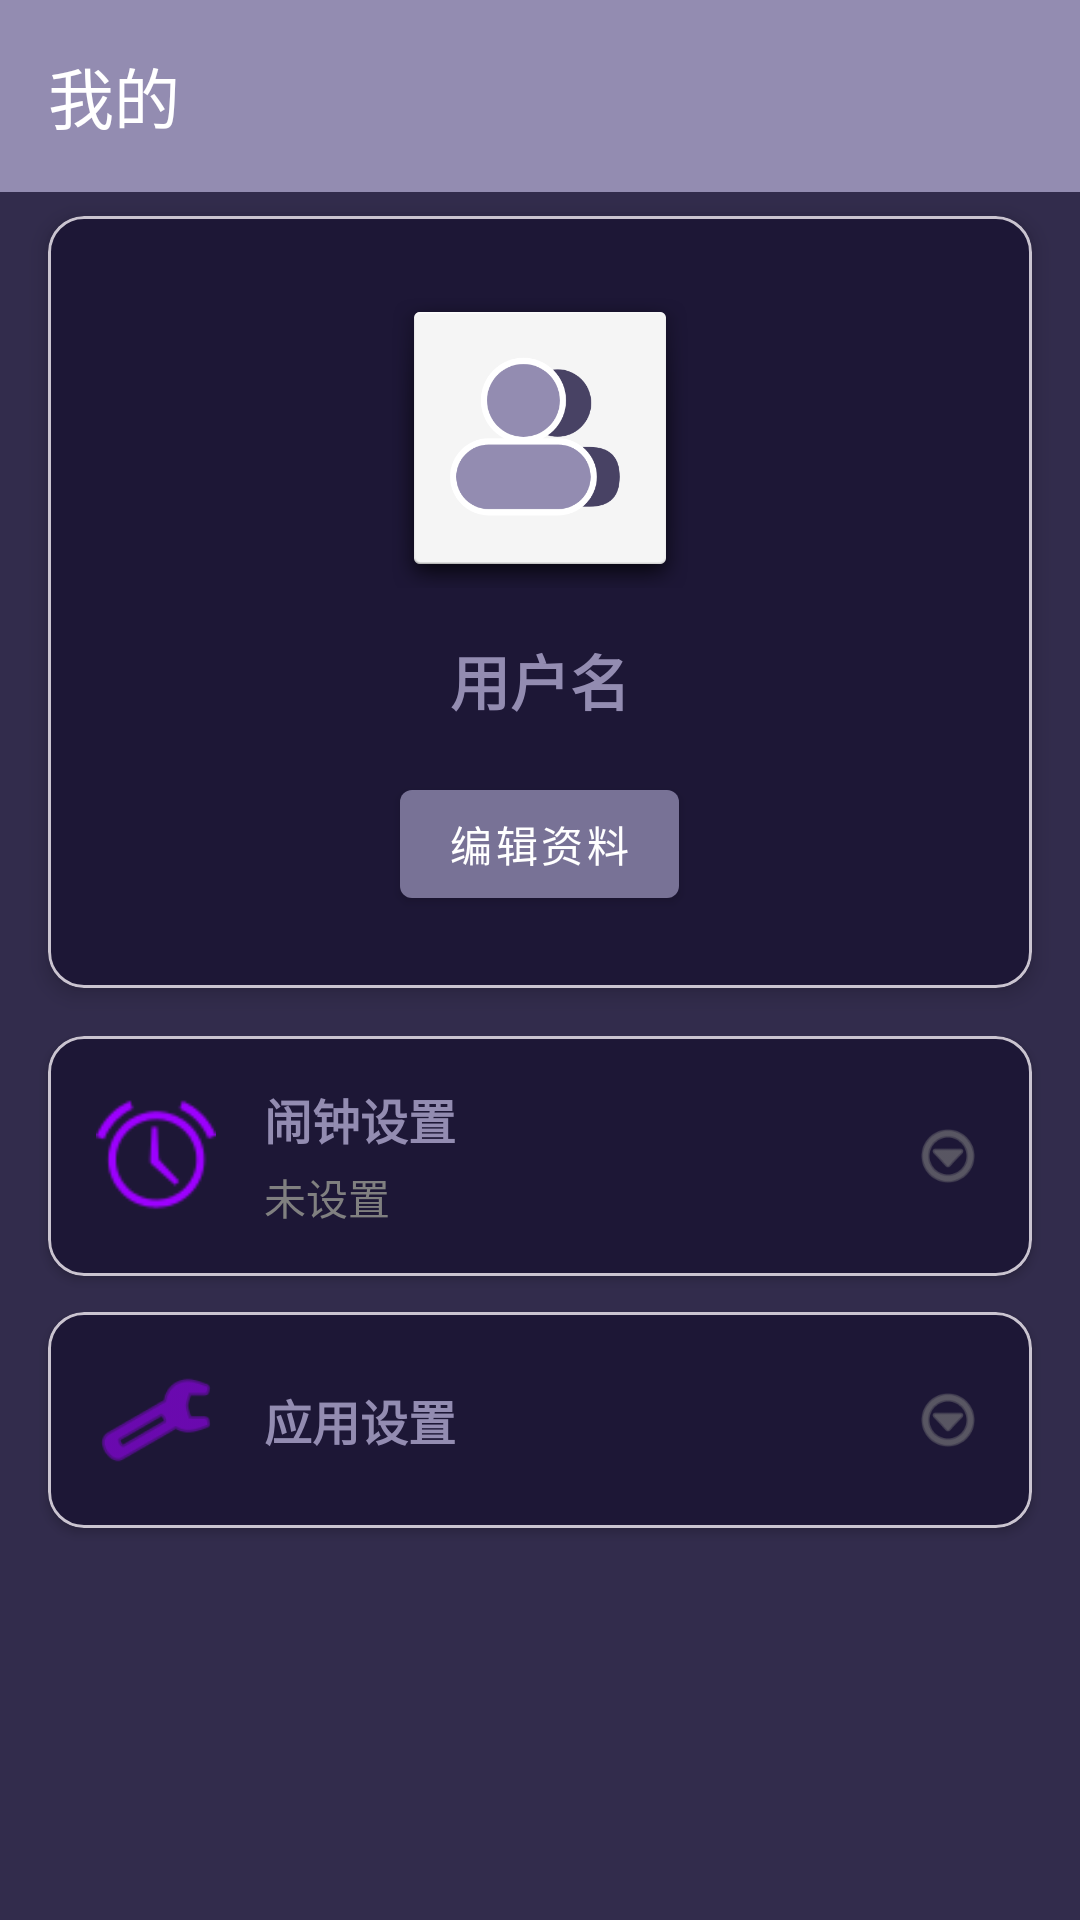

Icon bounding boxes for this 1080x1920 phone screenshot, format (x1,y1,x2,y2):
头像: (414,312,666,570)
箭头: (922,1130,974,1182), (922,1394,974,1446)
